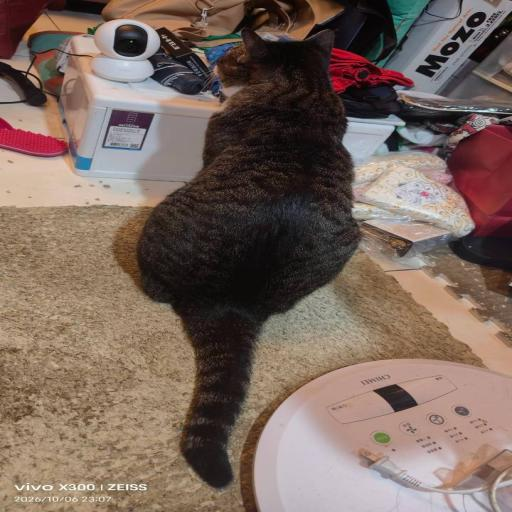cat: (142, 50, 359, 354)
